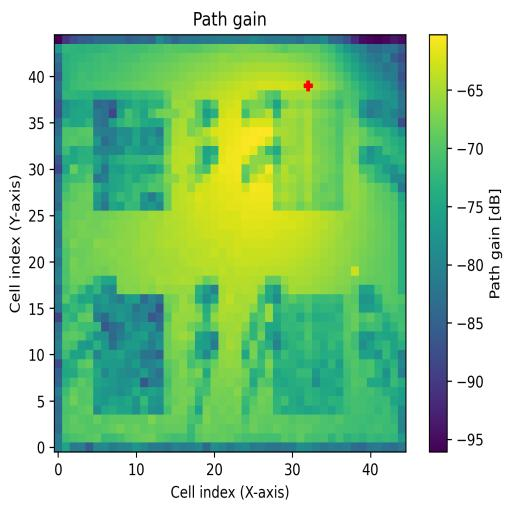Concrete: (272, 90, 342, 211)
Glass: (93, 90, 164, 212)
Metal: (273, 294, 344, 415)
Wood: (94, 295, 164, 415)
